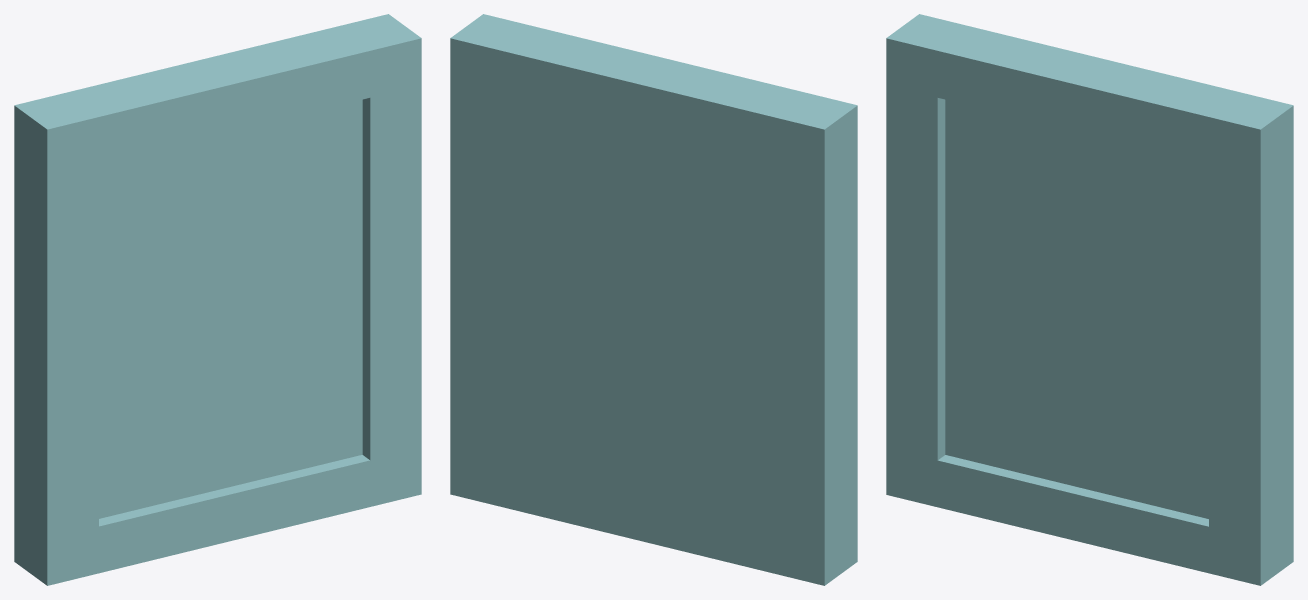
The model's file is Itr_Obj_Frame1_06.FBX.
The picture shows the model from 3 angles, left to right: view 1: azimuth 30°, elevation 25°; view 2: azimuth 150°, elevation 25°; view 3: azimuth 330°, elevation 25°; orthographic projection.
Parts seen in each view (by area): view 1: Itr_Obj_Frame1_06; view 2: Itr_Obj_Frame1_06; view 3: Itr_Obj_Frame1_06.
Part boxes in pixels (left/top/right/bottom): Itr_Obj_Frame1_06: left=14, top=14, right=421, bottom=585; Itr_Obj_Frame1_06: left=450, top=14, right=857, bottom=585; Itr_Obj_Frame1_06: left=886, top=14, right=1293, bottom=585.
Size of the model in its own units: 15.22 by 17.73 by 2.33.
